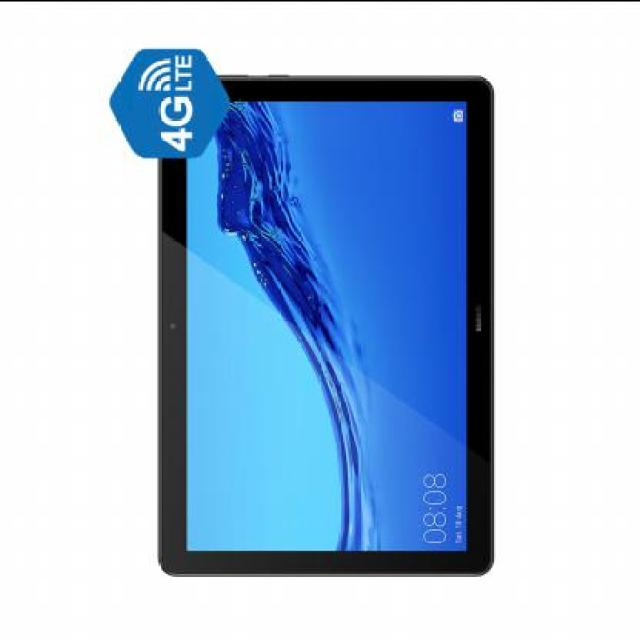tablet: (109, 34, 535, 583)
